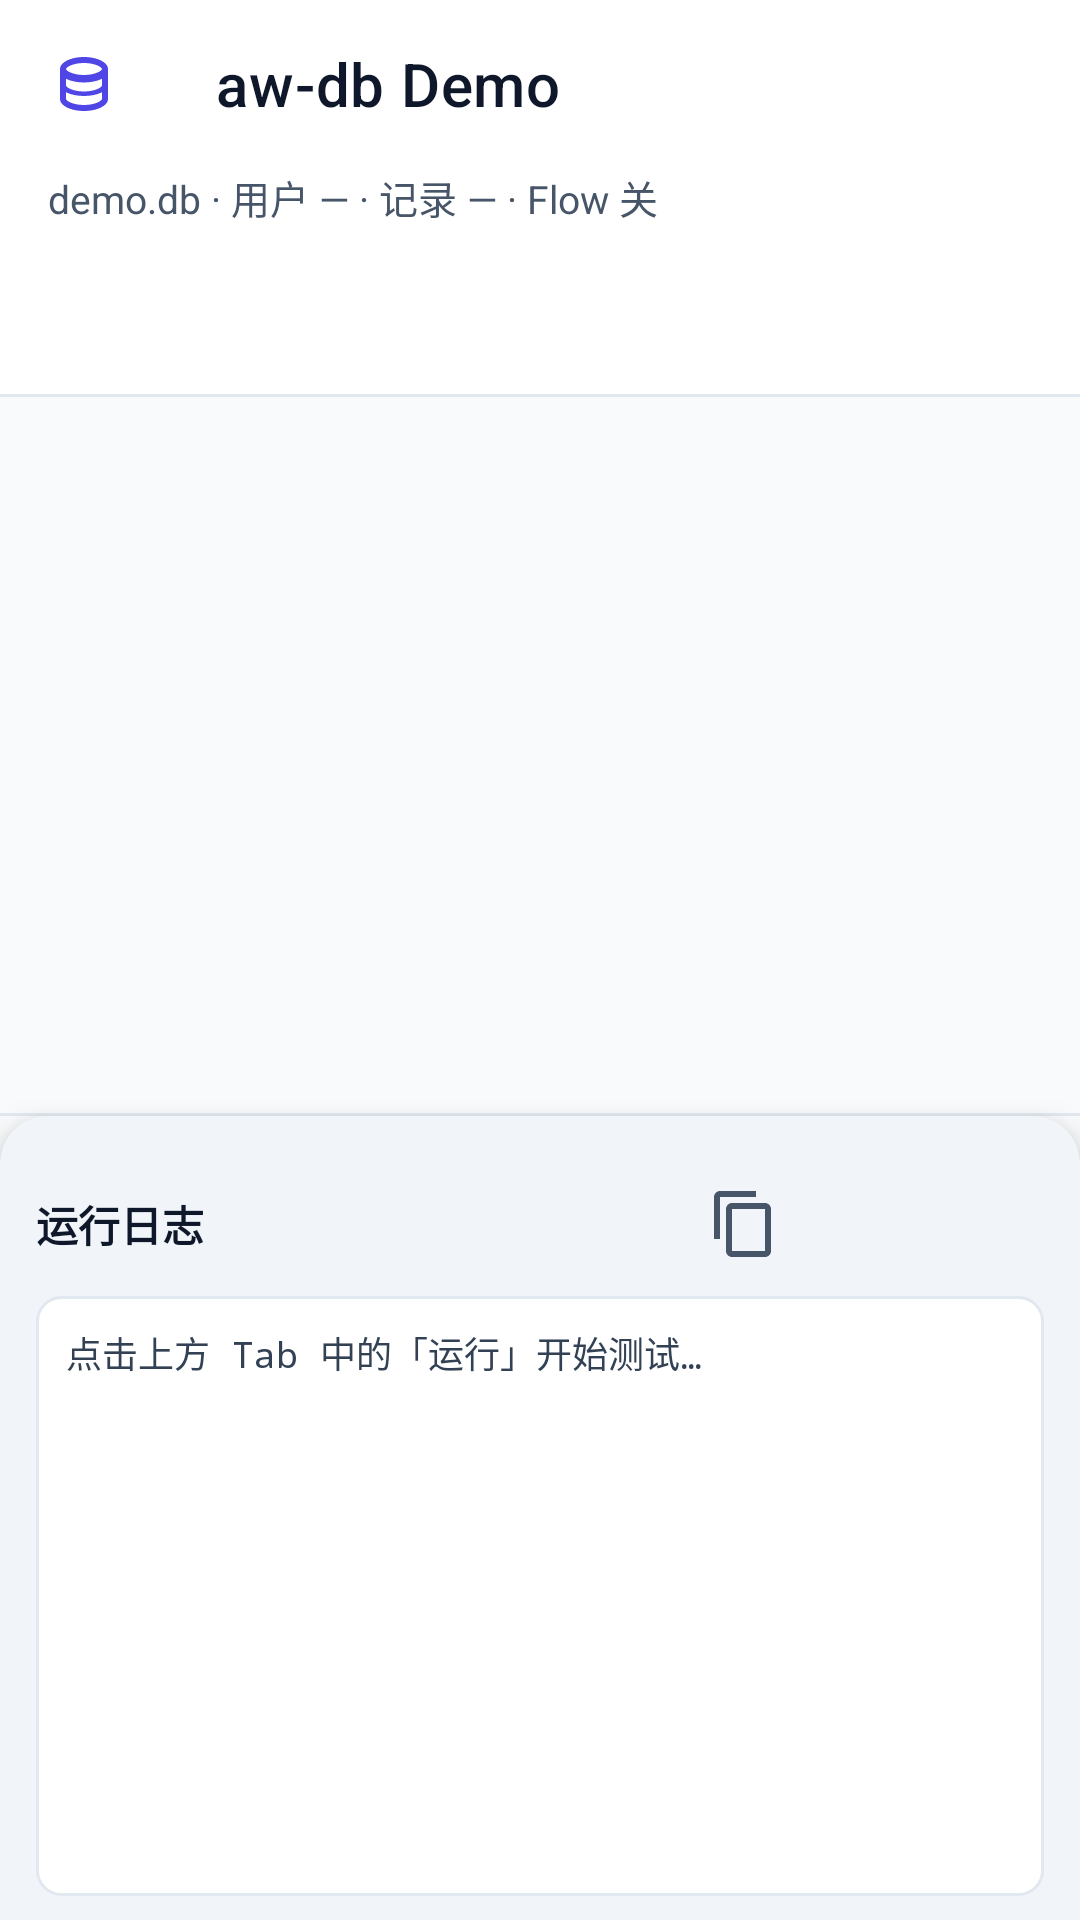

Named icons in this screenshot (1080*1920) and their centers, (x,y):
复制: (742,1224)
